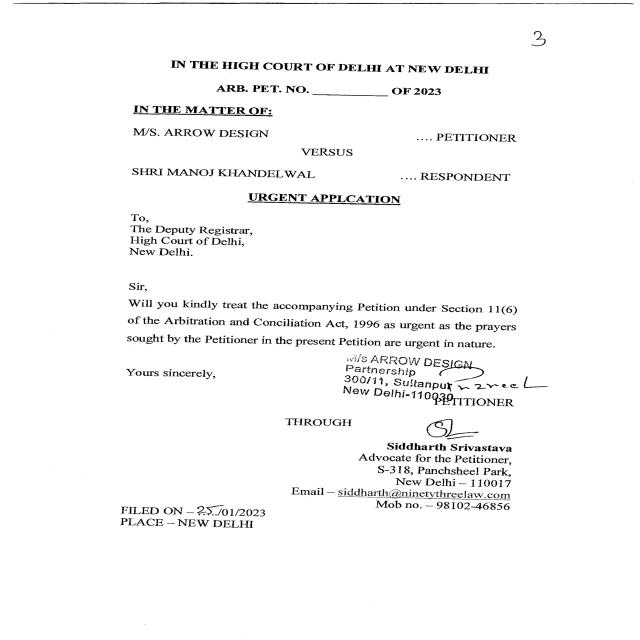page-number: (403, 8, 640, 62)
